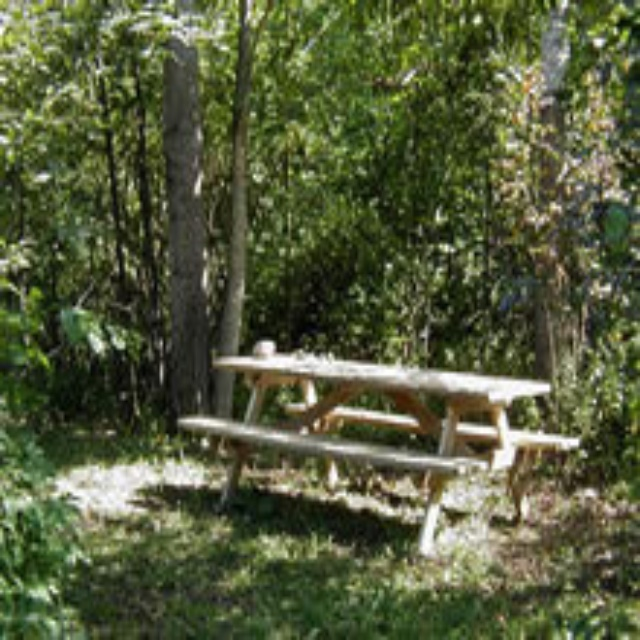obstacle: (180, 337, 585, 566)
